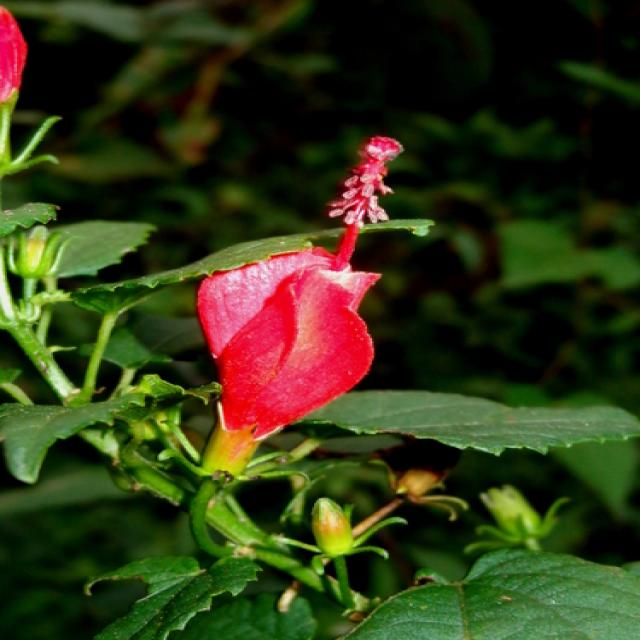Flower: (185, 129, 407, 470)
